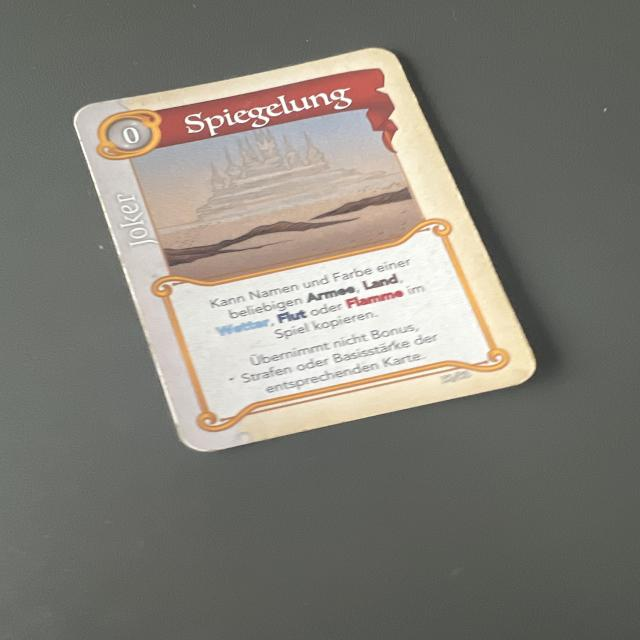Mirage: (69, 45, 543, 455)
